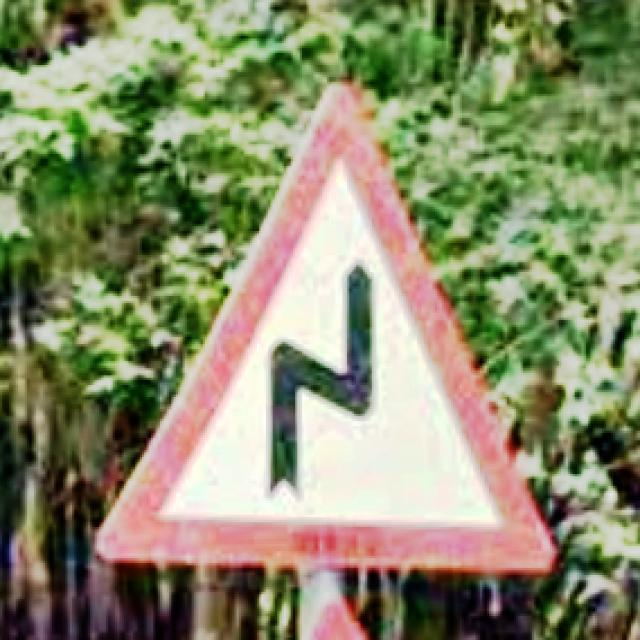doublebendright: (97, 82, 557, 575)
